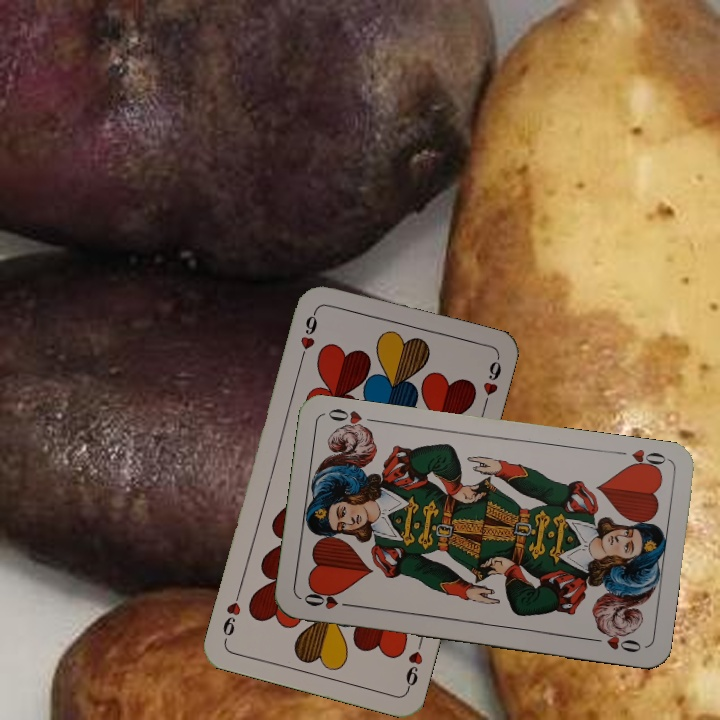H9: (296, 305, 321, 364), (401, 635, 426, 693)
HO: (621, 444, 669, 475), (300, 588, 358, 612)
